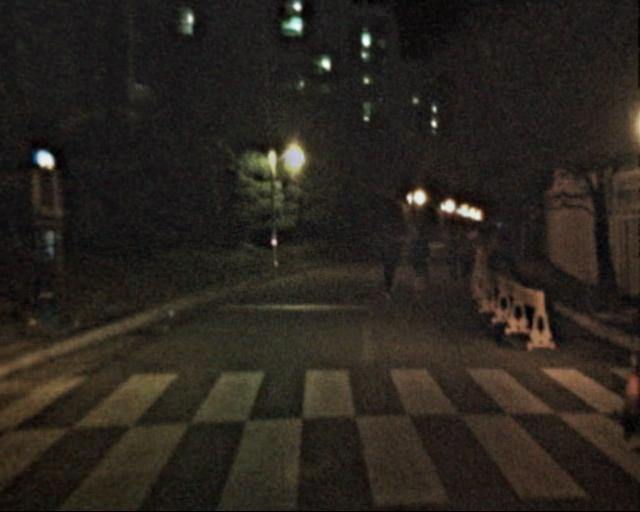person: (400, 219, 431, 295), (370, 220, 400, 294), (440, 221, 464, 279), (451, 225, 474, 282)
